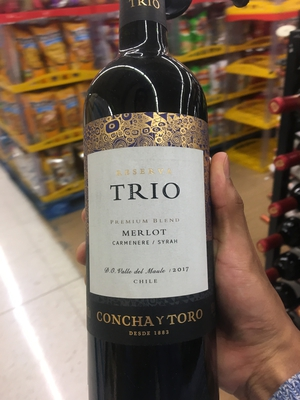trio merlot: (67, 18, 235, 400)
